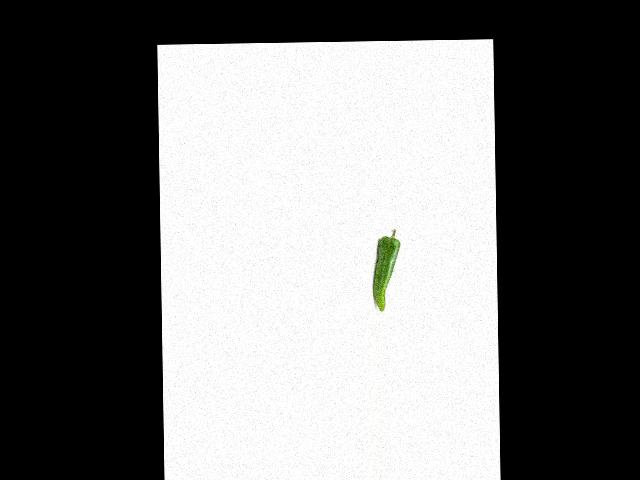bell_pepper: (370, 226, 403, 312)
